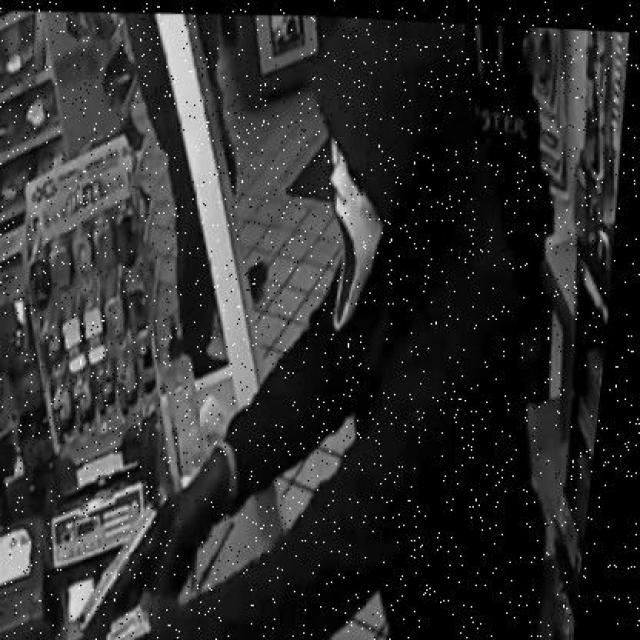weapon: (62, 498, 195, 638)
